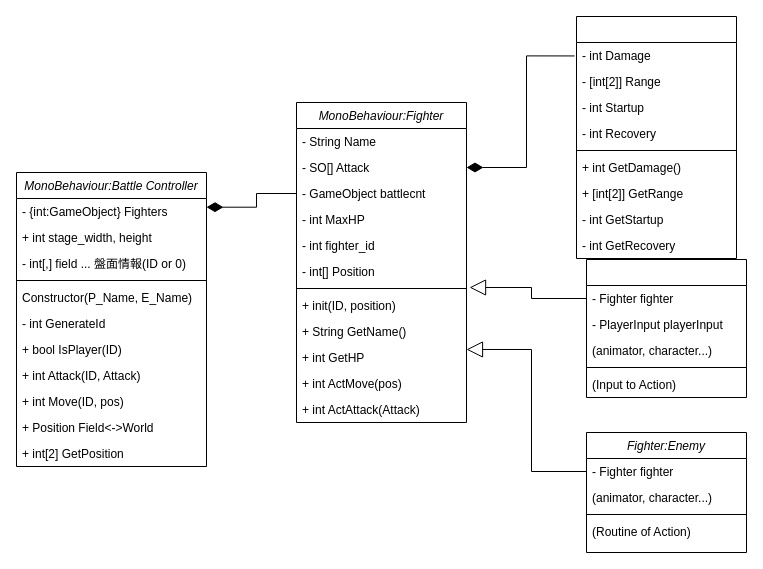
This 763x569 diagram has some shape labels left out. The shapes that lost their labels are listed below. From the top down, each one's box as (x1, y1, x2, y2) in pixels, then its label:
(576, 16, 736, 258): ScriptableObject:Attack
(586, 258, 746, 398): Fighter:Player
